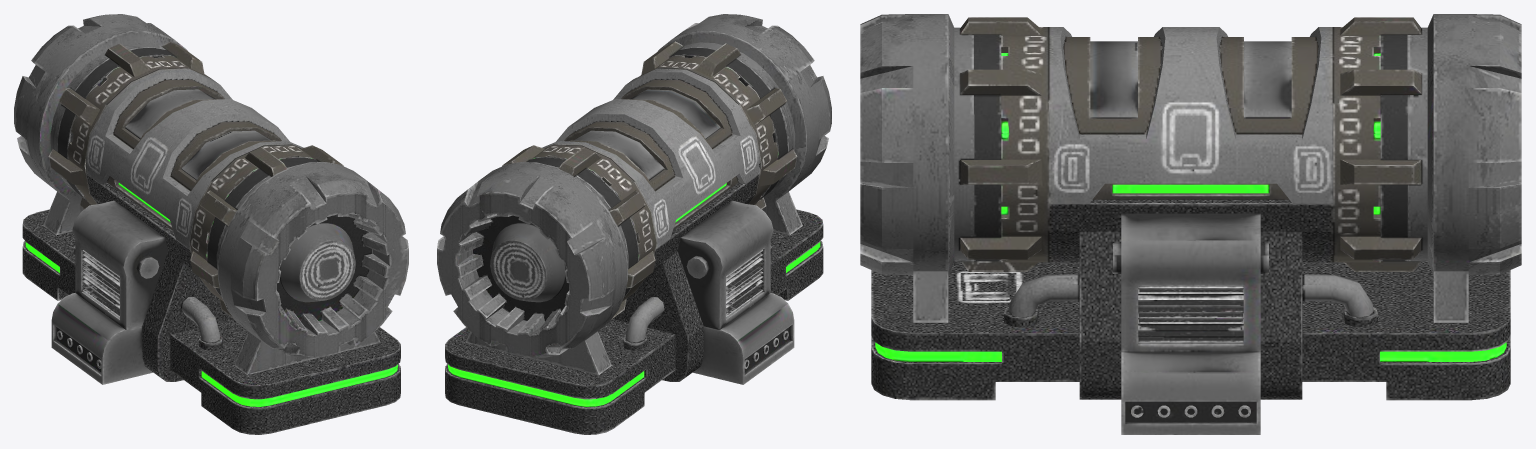
Rendered from SFgenerator.fbx.
The picture shows the model from 3 angles, left to right: view 1: azimuth 30°, elevation 25°; view 2: azimuth 150°, elevation 25°; view 3: azimuth 270°, elevation 25°; orthographic projection. The views are drawn at different scales.
Visible parts, largest first — view 1: SFGenerator; view 2: SFGenerator; view 3: SFGenerator.
Boxes of the visible parts, x1=… form: SFGenerator: x1=14, y1=14, x2=408, y2=434; SFGenerator: x1=437, y1=14, x2=831, y2=434; SFGenerator: x1=860, y1=14, x2=1521, y2=434.
Bounding box in the file's own units: 394 × 327 × 615.
